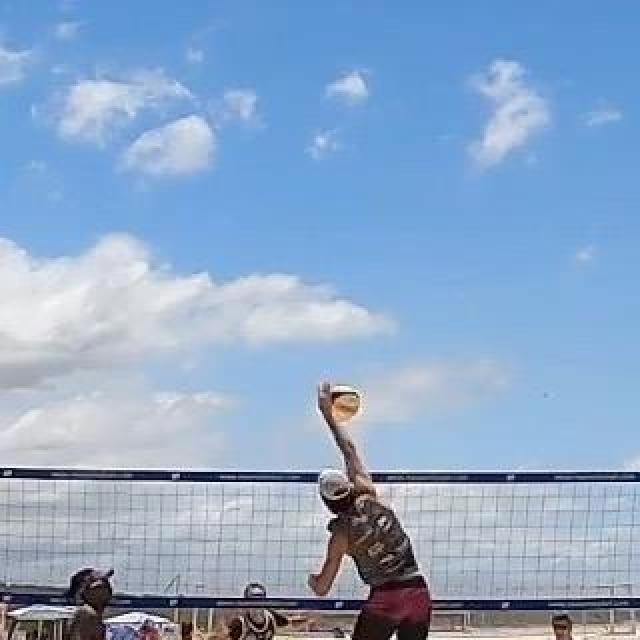volleyball: (322, 384, 362, 424)
